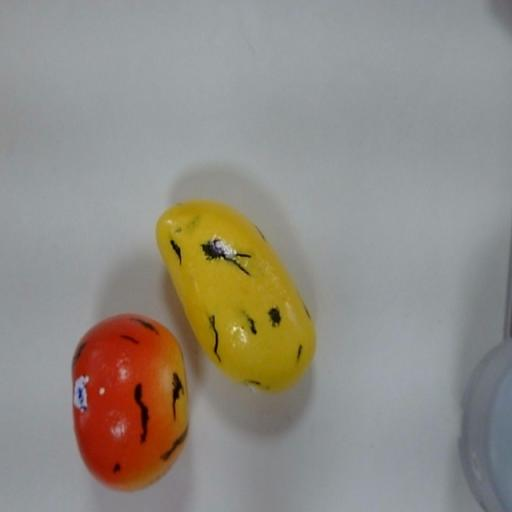Defective: (156, 193, 352, 404), (69, 305, 202, 500)
